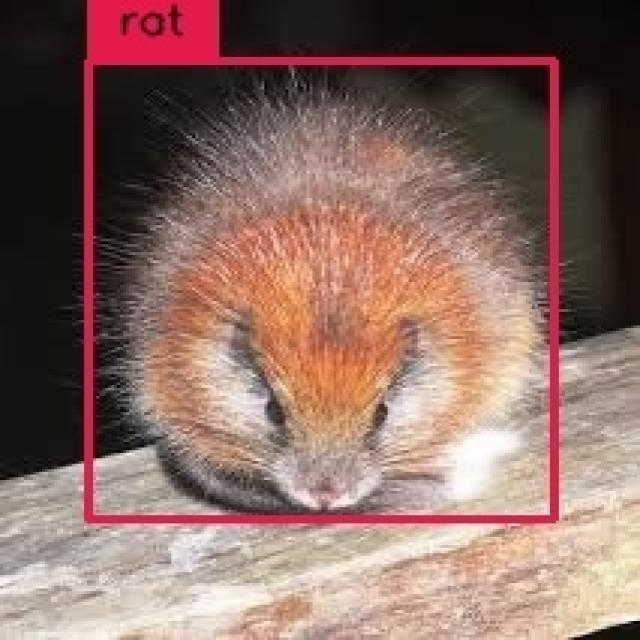rat: (89, 62, 554, 521)
